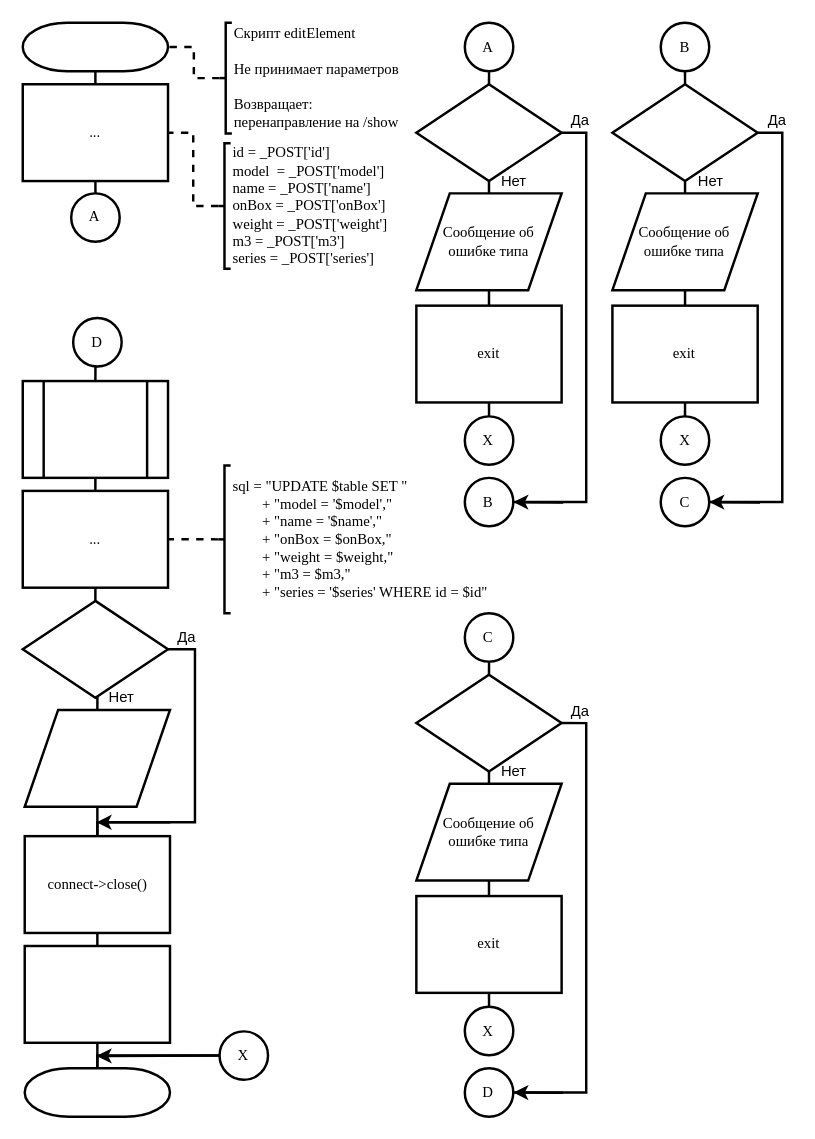
Image size: 815x1139. Some labels were removed from this diagram. Each missing label, with the box of its shape:
!is_numeric( m3): (415, 673, 562, 772)
!is_numeric( onBox): (415, 82, 562, 182)
!is_numeric( weight): (611, 82, 758, 182)
connect ->query(sql) != TRUE: (21, 599, 169, 698)
header('location: \show'): (23, 944, 171, 1043)
include connect.php: (21, 379, 169, 478)
Конец: (23, 1066, 171, 1117)
Начало: (21, 21, 169, 72)
Сообщение о невыполнении скрипта: (23, 708, 171, 807)
